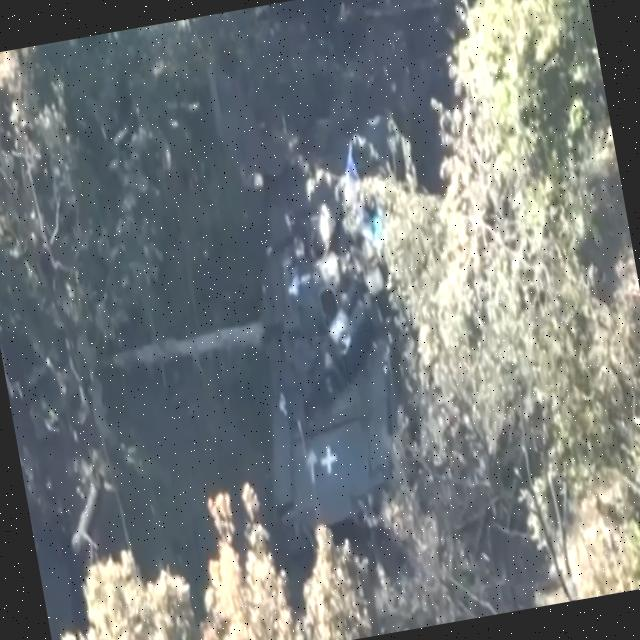MBT: (58, 97, 475, 588)
